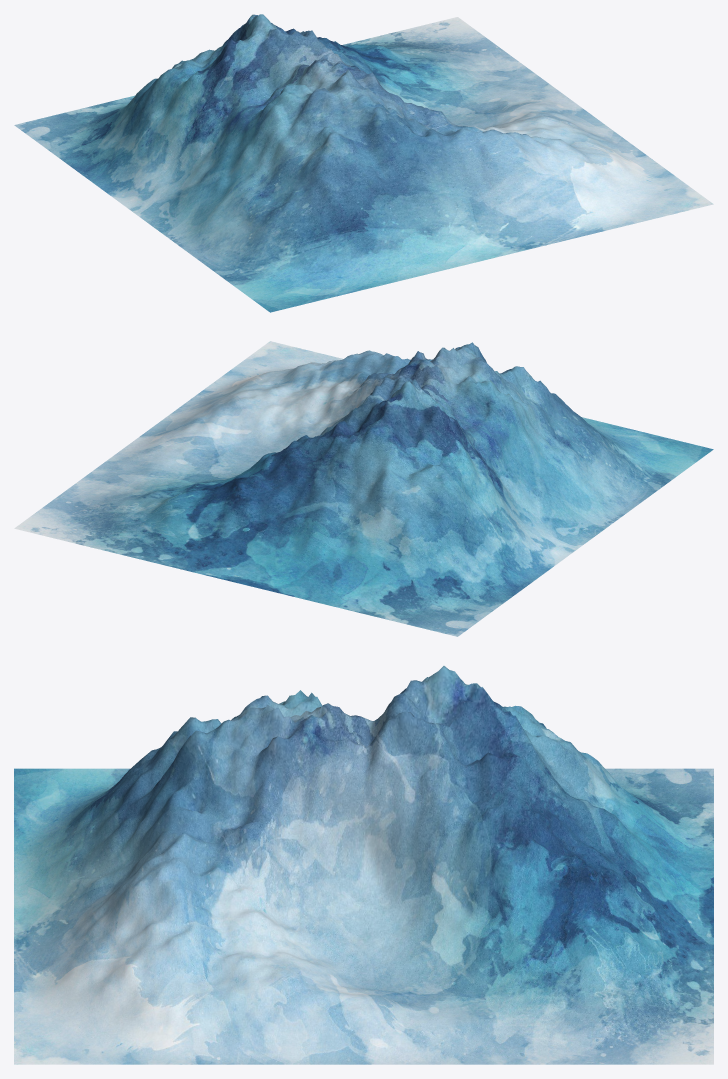
Rendered from Montaña.fbx.
3 views of the same model, one above another, from view 1: azimuth 30°, elevation 25°; view 2: azimuth 150°, elevation 25°; view 3: azimuth 270°, elevation 25° (orthographic). The views are drawn at different scales.
Visible parts, largest first — view 1: Landscape; view 2: Landscape; view 3: Landscape.
Boxes of the visible parts, x1,y1,x2,y2 form: Landscape: (14,14,713,312); Landscape: (14,341,713,636); Landscape: (14,666,713,1064).
Size of the model in its own units: 200 by 63.38 by 200.
Materials: 1 (1 with a texture image).
